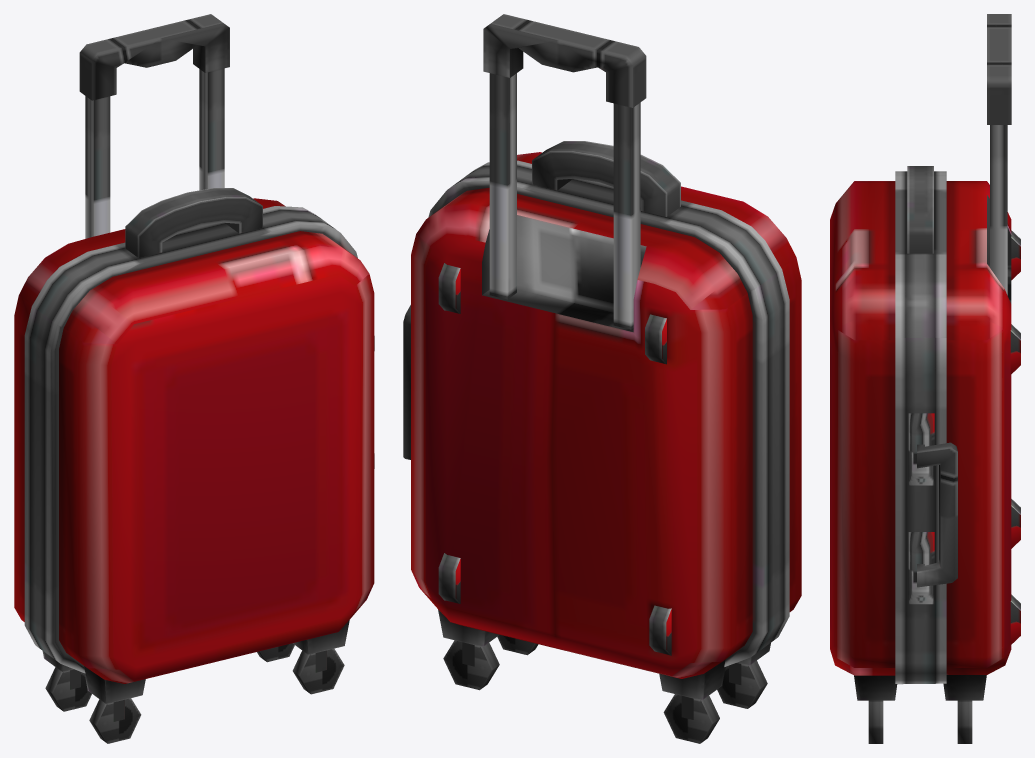
File: rmk_oth_suitcaseL.dae
The picture shows the model from 3 angles, left to right: view 1: azimuth 30°, elevation 25°; view 2: azimuth 150°, elevation 25°; view 3: azimuth 270°, elevation 25°; orthographic projection. The views are drawn at different scales.
Visible parts, largest first — view 1: rmk_oth_suitcaseL; view 2: rmk_oth_suitcaseL; view 3: rmk_oth_suitcaseL.
Boxes of the visible parts, bbox=[...] form: rmk_oth_suitcaseL: bbox=[14, 14, 374, 743]; rmk_oth_suitcaseL: bbox=[403, 14, 801, 743]; rmk_oth_suitcaseL: bbox=[830, 14, 1020, 743].
Bounding box in the file's own units: 22.65 × 41.04 × 11.04.
Materials: 1 (1 with a texture image).
